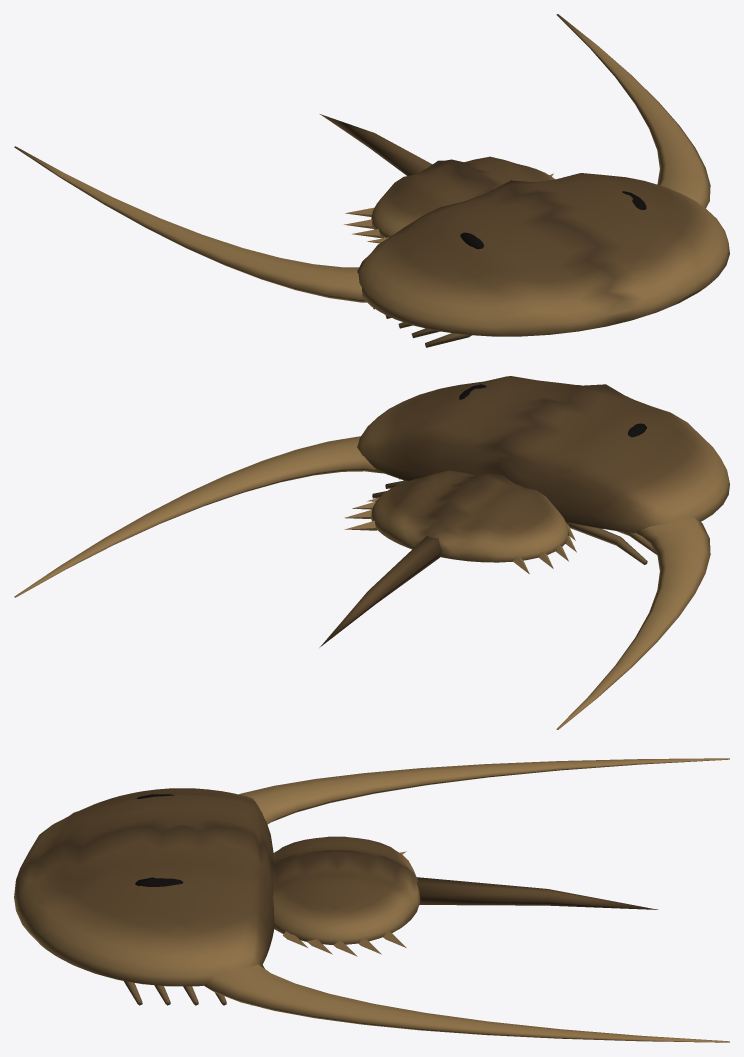
The model's file is Austrolimulus.fbx.
The picture shows the model from 3 angles, top to bottom: view 1: azimuth 30°, elevation 25°; view 2: azimuth 150°, elevation 25°; view 3: azimuth 270°, elevation 25°; orthographic projection. The views are drawn at different scales.
Parts seen in each view (by area): view 1: Austrolimulus; view 2: Austrolimulus; view 3: Austrolimulus.
Part boxes in pixels (bbox=[...]): Austrolimulus: bbox=[14, 14, 729, 347]; Austrolimulus: bbox=[14, 376, 729, 729]; Austrolimulus: bbox=[14, 758, 729, 1042].
Size of the model in its own units: 0.9582 by 0.1708 by 1.02.
